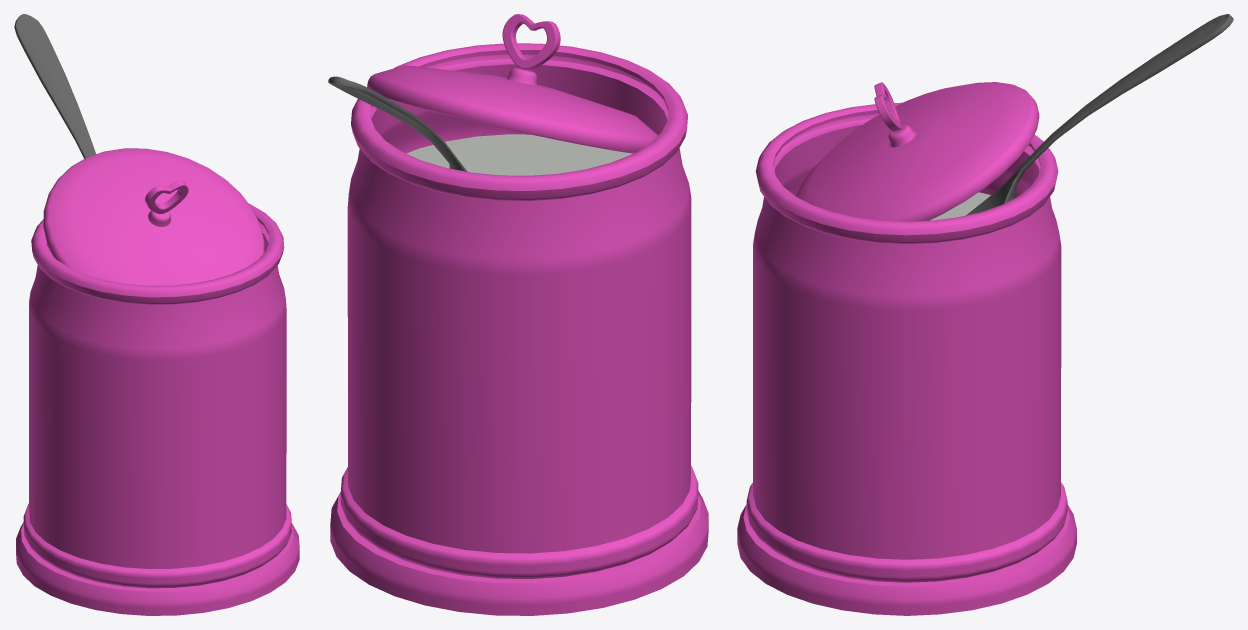
The model's file is BoardPieces_001.fbx.
The picture shows the model from 3 angles, left to right: view 1: azimuth 30°, elevation 25°; view 2: azimuth 150°, elevation 25°; view 3: azimuth 270°, elevation 25°; orthographic projection. The views are drawn at different scales.
Visible parts, largest first — view 1: BoardPieces_001; view 2: BoardPieces_001; view 3: BoardPieces_001.
Part boxes in pixels (x1,y1,x2,y2): BoardPieces_001: [14, 14, 299, 615]; BoardPieces_001: [328, 14, 708, 615]; BoardPieces_001: [737, 14, 1233, 615].
Size of the model in its own units: 7.7 by 13.22 by 11.24.
